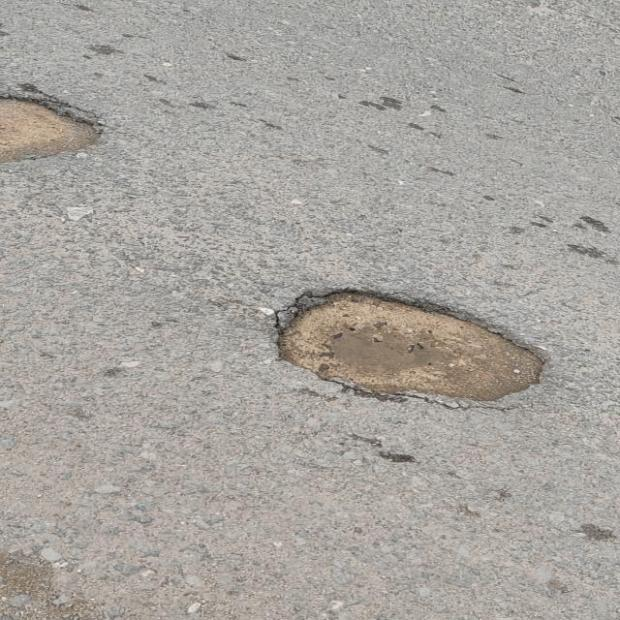lubang: (278, 290, 542, 400), (0, 97, 99, 163)
